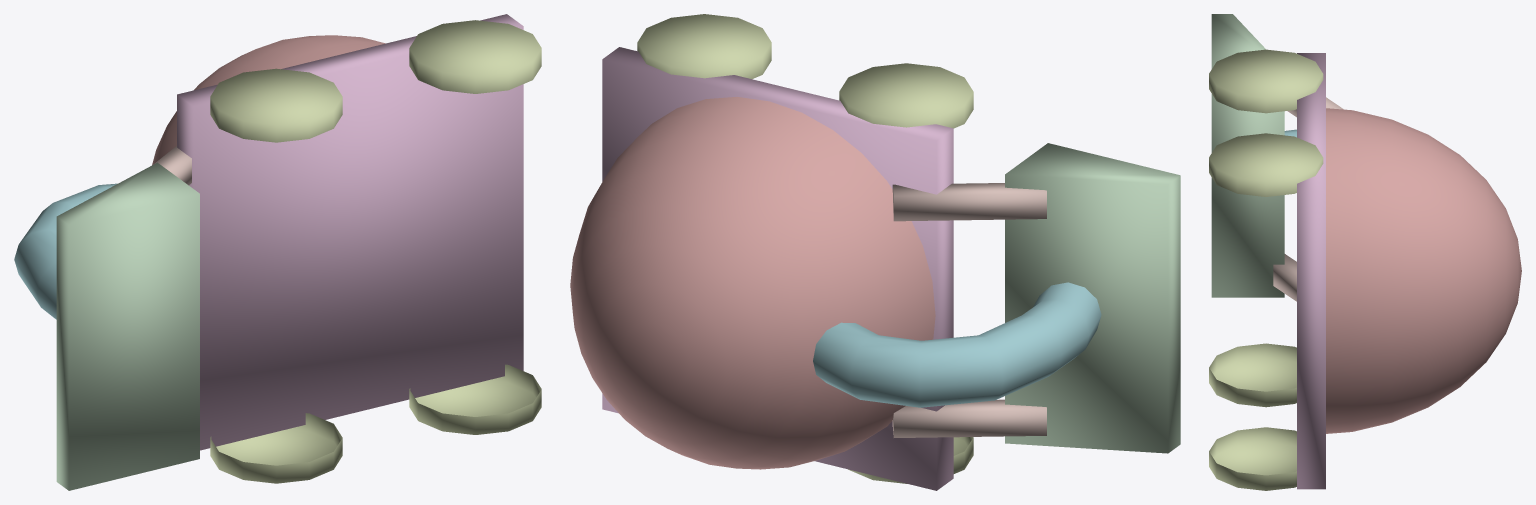
File: Cleaner.fbx
The picture shows the model from 3 angles, left to right: view 1: azimuth 30°, elevation 25°; view 2: azimuth 150°, elevation 25°; view 3: azimuth 270°, elevation 25°; orthographic projection. The views are drawn at different scales.
Parts seen in each view (by area): view 1: Cube_003; view 2: Cube_003; view 3: Cube_003.
Boxes of the visible parts, x1,y1,x2,y2 form: Cube_003: [14, 14, 541, 490]; Cube_003: [570, 14, 1180, 490]; Cube_003: [1209, 14, 1521, 490].
Size of the model in its own units: 1 by 0.6833 by 0.6262.
